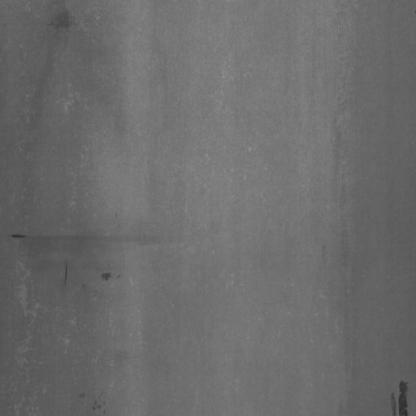oil_spot: (75, 381, 110, 413), (46, 7, 72, 50), (389, 378, 411, 416), (98, 260, 121, 289), (61, 257, 71, 288), (9, 232, 34, 244)
